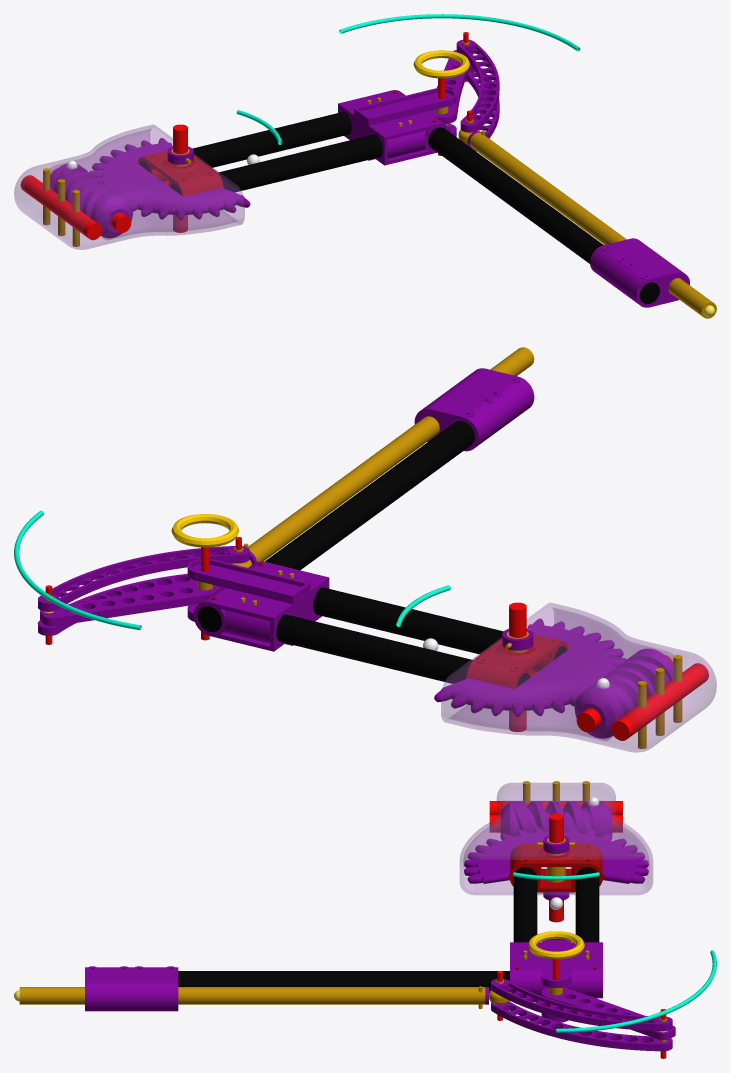
File: Test_Mesh_Leg_7-1-2026_physics.glb
3 renders of one model, top to bottom at view 1: azimuth 30°, elevation 25°; view 2: azimuth 150°, elevation 25°; view 3: azimuth 270°, elevation 25°, orthographic. The views are drawn at different scales.
Visible parts, largest first — view 1: joint_leg_swing, Mesh_5, joint_pushrod_follower, joint_worm_spin, joint_toe_hinge_lower_length, Mesh_2, rom_arc_knee_blade, actuator_knee_motor, joint_knee_blade_flexion, Mesh_4; view 2: joint_leg_swing, Mesh_5, joint_pushrod_follower, joint_toe_hinge_lower_length, joint_worm_spin, joint_knee_blade_flexion, Mesh_2, actuator_knee_motor, rom_arc_knee_blade, Mesh_4; view 3: joint_leg_swing, Mesh_5, joint_pushrod_follower, joint_toe_hinge_lower_length, joint_worm_spin, joint_knee_blade_flexion, rom_arc_knee_blade, actuator_knee_motor, Mesh_4, Mesh_2.
Boxes of the visible parts, x1=… form: joint_leg_swing: x1=89, y1=78, x2=689, y2=307; Mesh_5: x1=14, y1=124, x2=244, y2=249; joint_pushrod_follower: x1=458, y1=110, x2=716, y2=318; joint_worm_spin: x1=50, y1=163, x2=132, y2=238; joint_toe_hinge_lower_length: x1=456, y1=40, x2=499, y2=151; Mesh_2: x1=20, y1=175, x2=102, y2=240; rom_arc_knee_blade: x1=339, y1=14, x2=580, y2=51; actuator_knee_motor: x1=413, y1=50, x2=469, y2=78; joint_knee_blade_flexion: x1=428, y1=32, x2=473, y2=124; Mesh_4: x1=173, y1=124, x2=187, y2=232; joint_leg_swing: x1=187, y1=368, x2=626, y2=717; Mesh_5: x1=441, y1=603, x2=716, y2=752; joint_pushrod_follower: x1=231, y1=347, x2=534, y2=567; joint_toe_hinge_lower_length: x1=37, y1=546, x2=249, y2=635; joint_worm_spin: x1=574, y1=648, x2=673, y2=738; joint_knee_blade_flexion: x1=40, y1=580, x2=221, y2=644; Mesh_2: x1=611, y1=663, x2=708, y2=740; actuator_knee_motor: x1=171, y1=514, x2=238, y2=547; rom_arc_knee_blade: x1=14, y1=510, x2=141, y2=630; Mesh_4: x1=509, y1=602, x2=526, y2=731; joint_leg_swing: x1=85, y1=827, x2=648, y2=1022; Mesh_5: x1=459, y1=783, x2=652, y2=894; joint_pushrod_follower: x1=19, y1=971, x2=510, y2=1020; joint_toe_hinge_lower_length: x1=491, y1=978, x2=672, y2=1051; joint_worm_spin: x1=489, y1=801, x2=622, y2=836; joint_knee_blade_flexion: x1=541, y1=987, x2=675, y2=1058; rom_arc_knee_blade: x1=556, y1=950, x2=716, y2=1032; actuator_knee_motor: x1=528, y1=931, x2=584, y2=959; Mesh_4: x1=549, y1=813, x2=563, y2=922; Mesh_2: x1=489, y1=801, x2=622, y2=814.
Size of the model in its own units: 0.3372 by 0.0625 by 0.3774.
